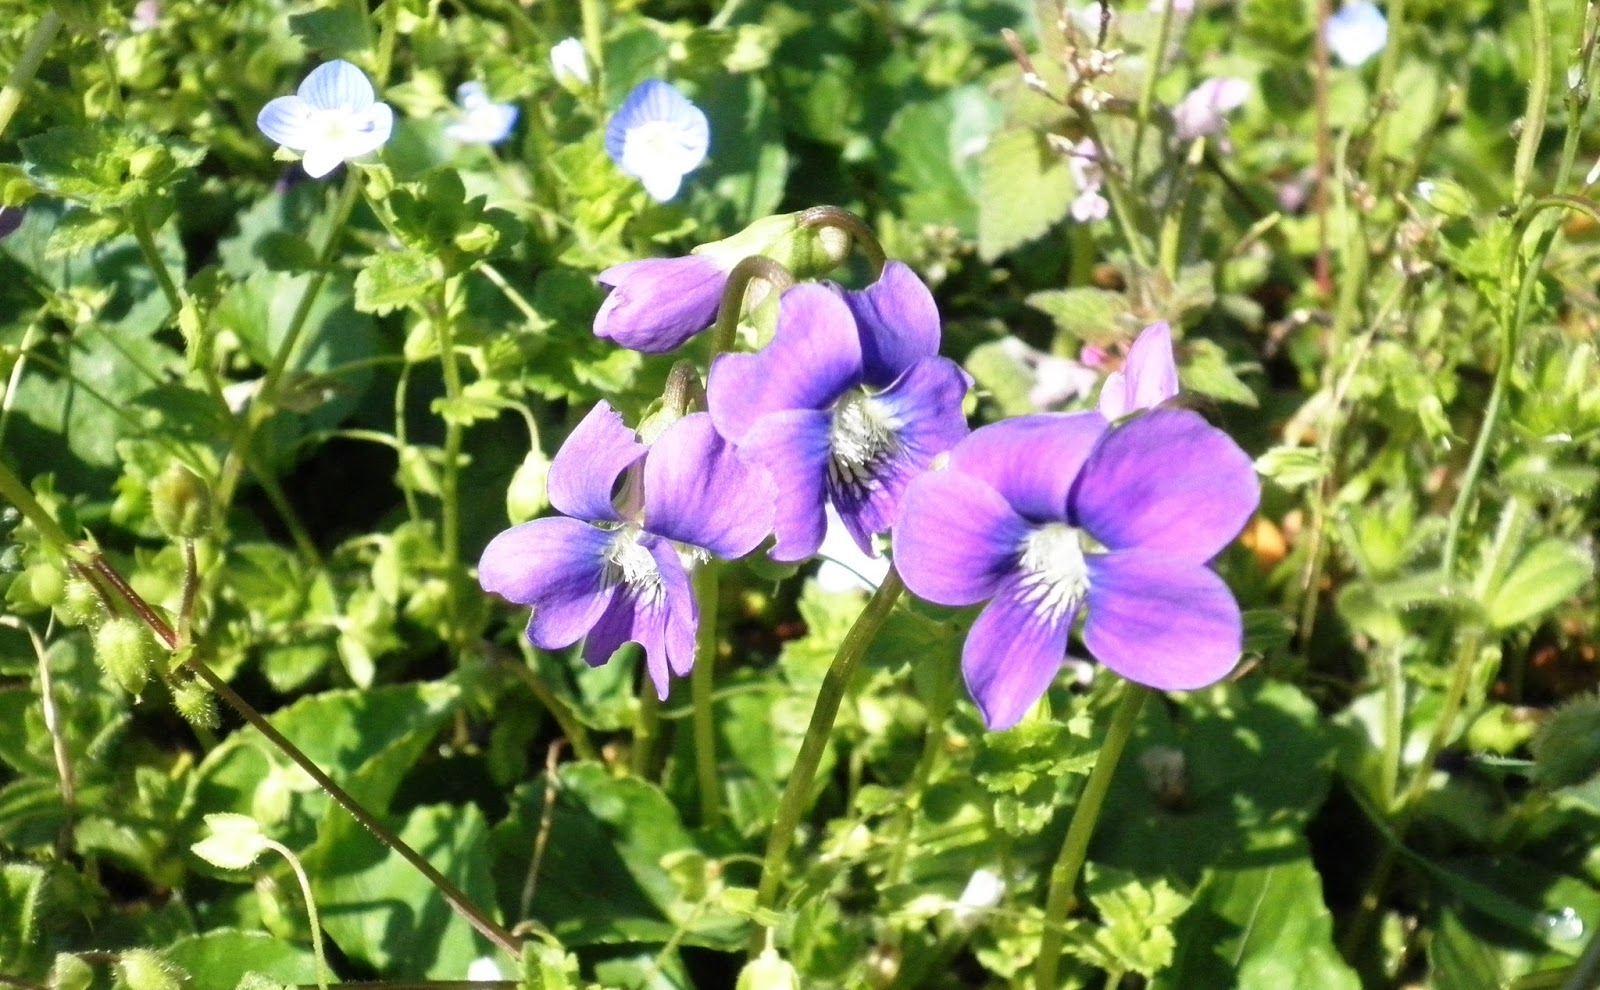violet: (885, 384, 1266, 734), (713, 227, 959, 594), (414, 420, 726, 677)
